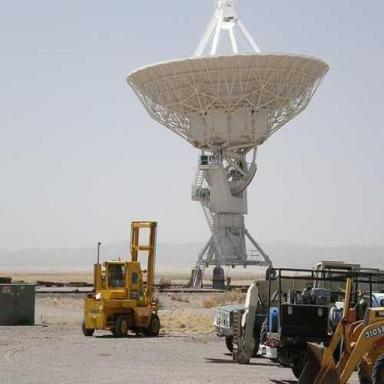forklift: (270, 270, 384, 384), (82, 217, 161, 339)
